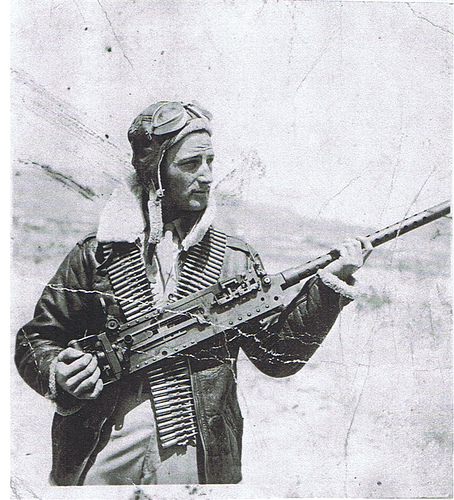rifle: (109, 272, 266, 370)
rifle in hand: (40, 202, 446, 429)
